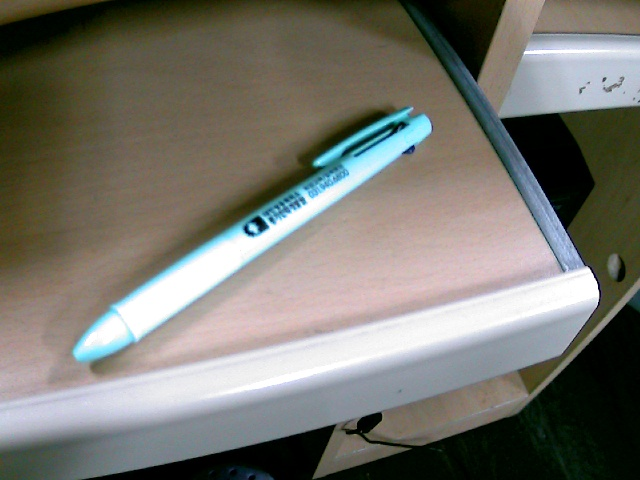pen: (68, 107, 438, 360)
